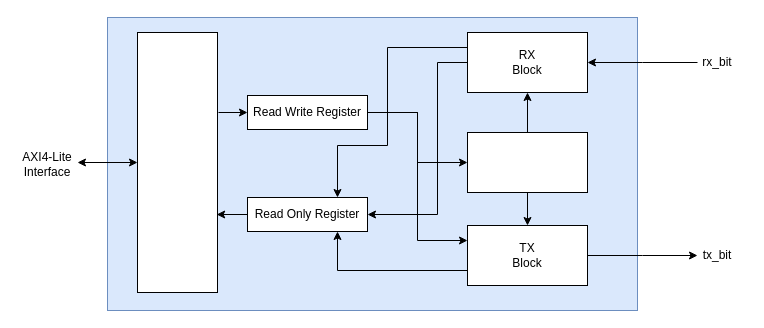
Image size: 764x328. Some labels were removed from this diagram. The shapes that lost their labels are listed below. From the top down, each one's box as (x1, y1, x2, y2) in pixels, then its label:
(136, 32, 218, 292): AXI Interface
(466, 132, 588, 192): Baud Rate Generator
